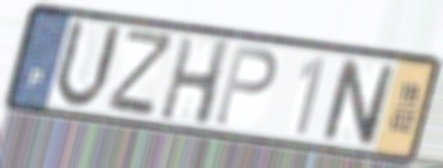1: (294, 54, 329, 137)
H: (156, 35, 234, 130)
N: (319, 55, 397, 149)
P: (211, 42, 280, 130)
U: (50, 15, 126, 113)
Z: (103, 26, 177, 121)
